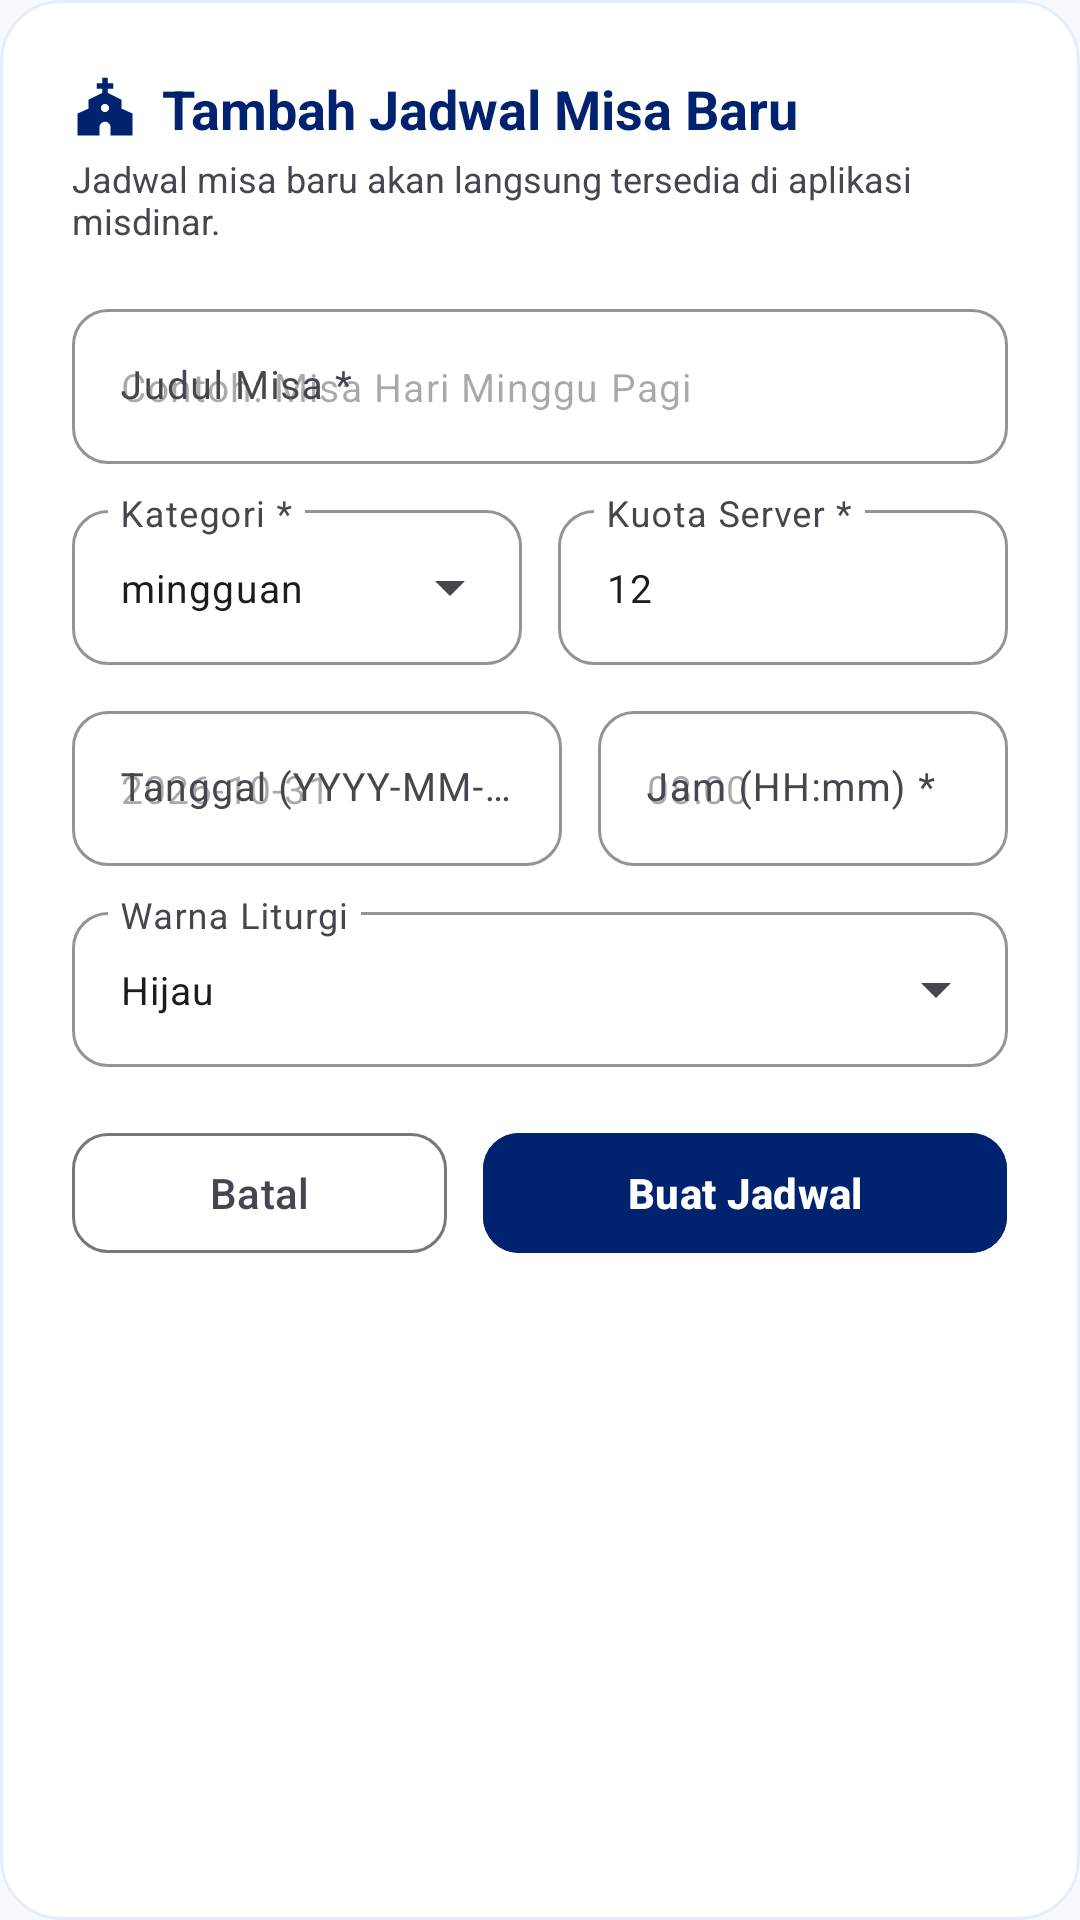

Where icons sit on this 1080 x 1920 app screen, as (x1, y1, x2, y2):
church: (77, 77, 133, 136)
